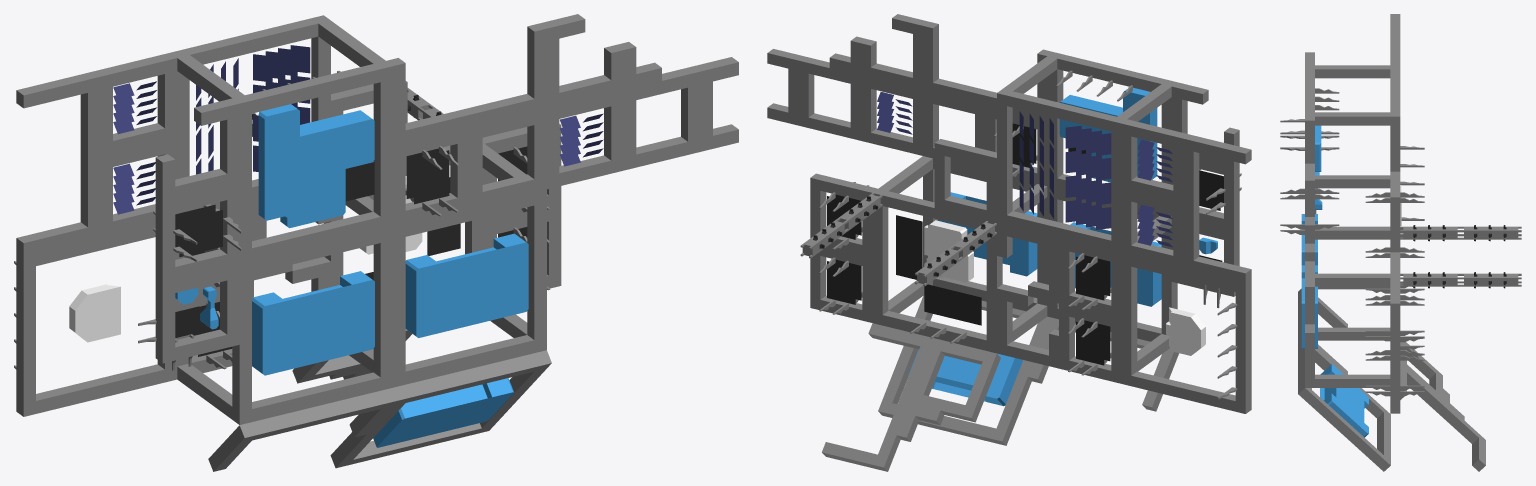
The model's file is StarbaseAtlasProjectKingdomOutpost.glb.
3 views of the same model, side by side, from view 1: azimuth 30°, elevation 25°; view 2: azimuth 150°, elevation 25°; view 3: azimuth 270°, elevation 25° (orthographic). The views are drawn at different scales.
Visible parts, largest first — view 1: Block_Ship_Shop_Kingdom.002, Block_Ship_Hangars_Kingdom.006, Block_Ship_Hangars_Kingdom.005, Block_Ship_Hangars_Kingdom.007, Block_Command_Center.005, Block_Solar.007, Quarter_Block_Towers.170, Quarter_Block_Spawn_Kingdom.002, Quarter_Block_Towers.171, Block_Half.043, Quarter_Block_solar.033, Quarter_Block_solar.034 (+20 smaller); view 2: Block_Solar.007, Block_Marketplace.005, Block_Command_Center.005, Block_Ship_Hangars_Kingdom.007, Block_Ship_Shop_Kingdom.002, Quarter_Block_Towers.166, Quarter_Block_Towers.167, Block_Ship_Hangars_Kingdom.005, Quarter_Block_solar.033, Block_Half.043, Quarter_Block_Towers.169, Quarter_Block_solar.032 (+30 smaller); view 3: Block_Ship_Hangars_Kingdom.007, Block_Half.096, Quarter_Block_Towers.168, Quarter_Block_Towers.169, Block_Solar.007, Block_Ship_Shop_Kingdom.002, Quarter_Block_Pillar.022, Quarter_Block_Pillar.015, Quarter_Block_Pillar.019, Quarter_Block_Pillar.021, Quarter_Block_Pillar.016, Block_Ship_Hangars_Kingdom.005 (+22 smaller).
Boxes of the visible parts, x1,y1,x2,y2 form: Block_Ship_Shop_Kingdom.002: (233, 61, 393, 264); Block_Ship_Hangars_Kingdom.006: (232, 227, 393, 424); Block_Ship_Hangars_Kingdom.005: (393, 189, 546, 387); Block_Ship_Hangars_Kingdom.007: (330, 350, 551, 468); Block_Command_Center.005: (14, 224, 177, 416); Block_Solar.007: (170, 15, 330, 213); Quarter_Block_Towers.170: (153, 184, 241, 282); Quarter_Block_Spawn_Kingdom.002: (138, 264, 239, 370); Quarter_Block_Towers.171: (393, 128, 469, 226); Block_Half.043: (16, 71, 100, 255); Quarter_Block_solar.033: (93, 53, 177, 156); Quarter_Block_solar.034: (547, 90, 623, 189); Block_Solar.007: (997, 89, 1126, 253); Block_Marketplace.005: (872, 188, 1002, 353); Block_Command_Center.005: (1121, 253, 1251, 413); Block_Ship_Hangars_Kingdom.007: (878, 295, 1050, 445); Block_Ship_Shop_Kingdom.002: (1047, 52, 1176, 216); Quarter_Block_Towers.166: (1059, 238, 1121, 318); Quarter_Block_Towers.167: (1059, 303, 1121, 383); Block_Ship_Hangars_Kingdom.005: (923, 158, 1047, 311); Quarter_Block_solar.033: (1121, 119, 1188, 203); Block_Half.043: (1183, 134, 1251, 283); Quarter_Block_Towers.169: (810, 247, 872, 322); Quarter_Block_solar.032: (1121, 188, 1183, 268); Block_Ship_Hangars_Kingdom.007: (1298, 340, 1390, 471); Block_Half.096: (1400, 363, 1485, 471); Quarter_Block_Towers.168: (1365, 278, 1424, 358); Quarter_Block_Towers.169: (1365, 350, 1424, 413); Block_Solar.007: (1390, 65, 1400, 171); Block_Ship_Shop_Kingdom.002: (1305, 65, 1339, 171); Quarter_Block_Pillar.022: (1315, 112, 1390, 125); Quarter_Block_Pillar.015: (1315, 273, 1390, 286); Quarter_Block_Pillar.019: (1315, 175, 1390, 188); Quarter_Block_Pillar.021: (1315, 65, 1390, 78); Quarter_Block_Pillar.016: (1315, 374, 1390, 387); Block_Ship_Hangars_Kingdom.005: (1301, 265, 1317, 387).
Size of the model in its own units: 1573 by 1023 by 735.
